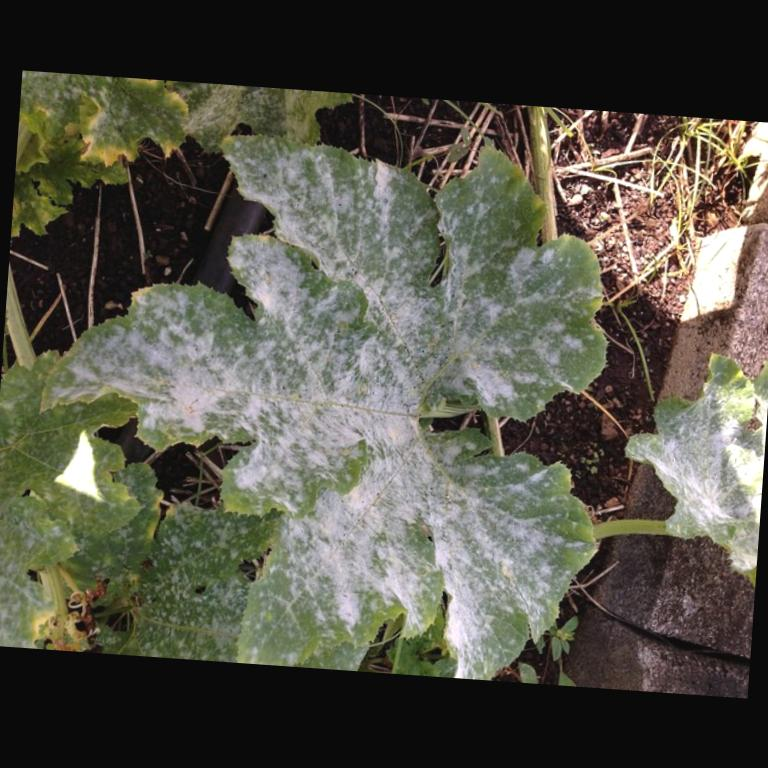powdery-mildew: (288, 470, 415, 620), (266, 315, 396, 452), (456, 261, 576, 385), (145, 316, 244, 420)
